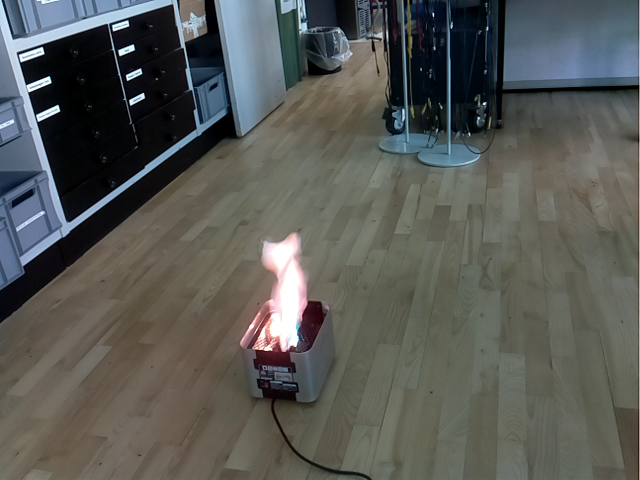fire: (260, 231, 308, 351)
